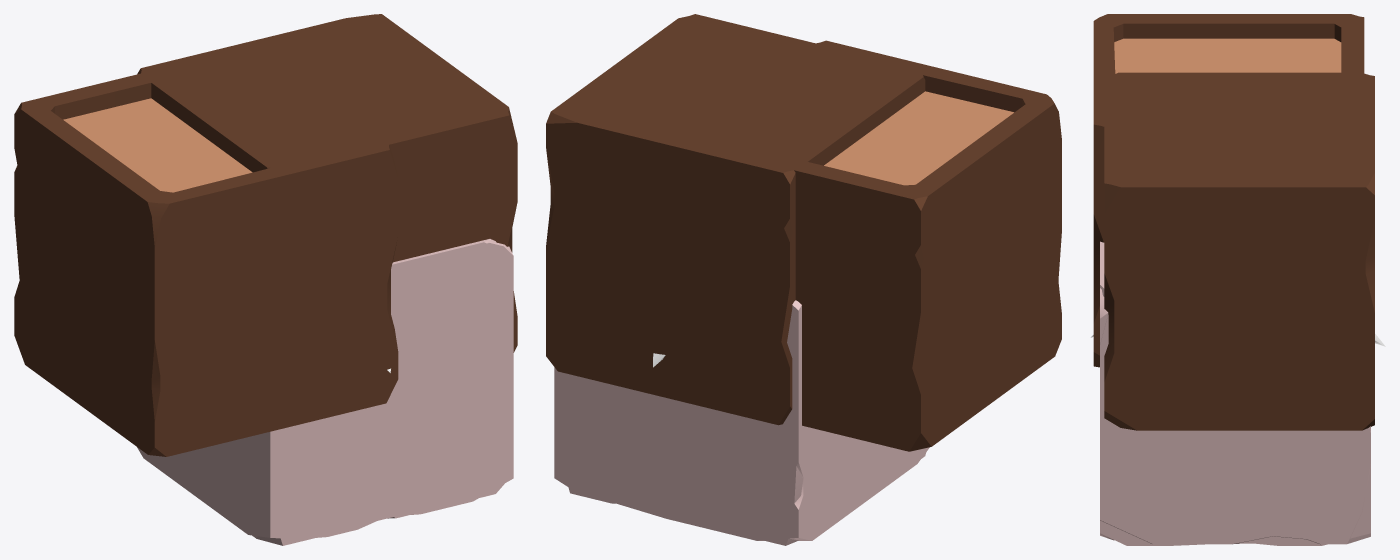
The model's file is LeafPlant.fbx.
3 views of the same model, side by side, from view 1: azimuth 30°, elevation 25°; view 2: azimuth 150°, elevation 25°; view 3: azimuth 270°, elevation 25° (orthographic). The views are drawn at different scales.
Visible parts, largest first — view 1: TreeWithTop, TreeNoTop, StoneGrass, Stone; view 2: TreeNoTop, TreeWithTop, Stone, StoneGrass; view 3: TreeNoTop, Stone, TreeWithTop, StoneGrass.
Part boxes in pixels (box(x1,y1,x2,y2)): TreeWithTop: box(14, 48, 398, 456); TreeNoTop: box(137, 14, 517, 352); StoneGrass: box(137, 242, 513, 539); Stone: box(252, 239, 513, 545); TreeNoTop: box(546, 14, 925, 425); TreeWithTop: box(682, 40, 1061, 451); Stone: box(554, 347, 926, 545); StoneGrass: box(554, 300, 929, 540); TreeNoTop: box(1104, 72, 1374, 430); Stone: box(1100, 241, 1370, 544); TreeWithTop: box(1093, 14, 1364, 367); StoneGrass: box(1100, 288, 1370, 545).
Bounding box in the file's own units: 303 × 295 × 218.
